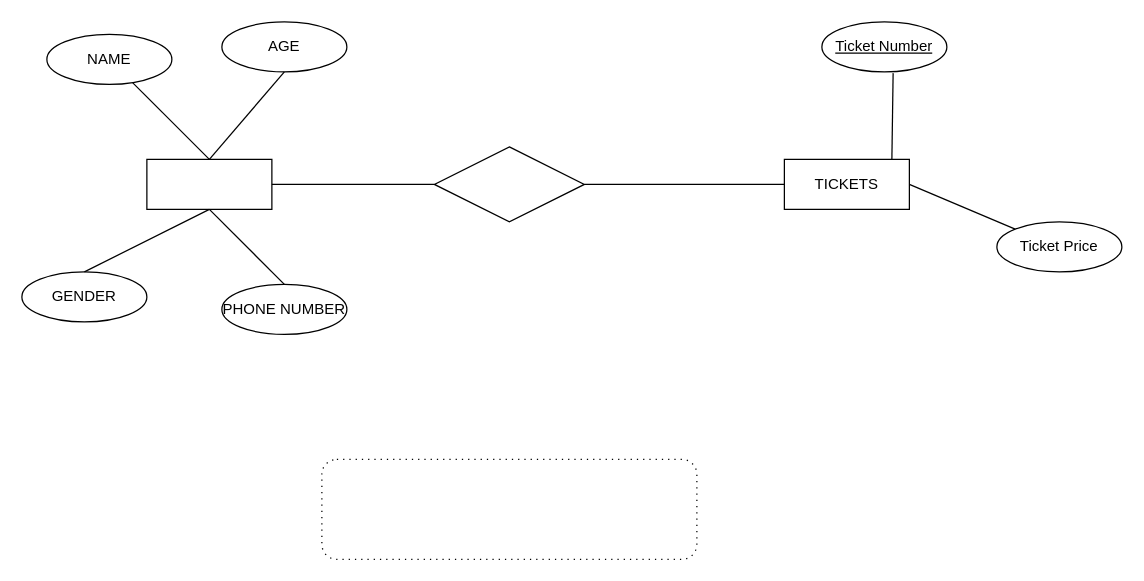
This 1144x581 diagram has some shape labels left out. The shapes that lost their labels are listed below. From the top down, each one's centre as x and y in pixels, then its label:
At pixel 209 183: "USER".
At pixel 508 184: "BOOKS".
At pixel 509 508: "ER DIAGRAM - MOVIE TICKET BOOKING SYSTEM".
